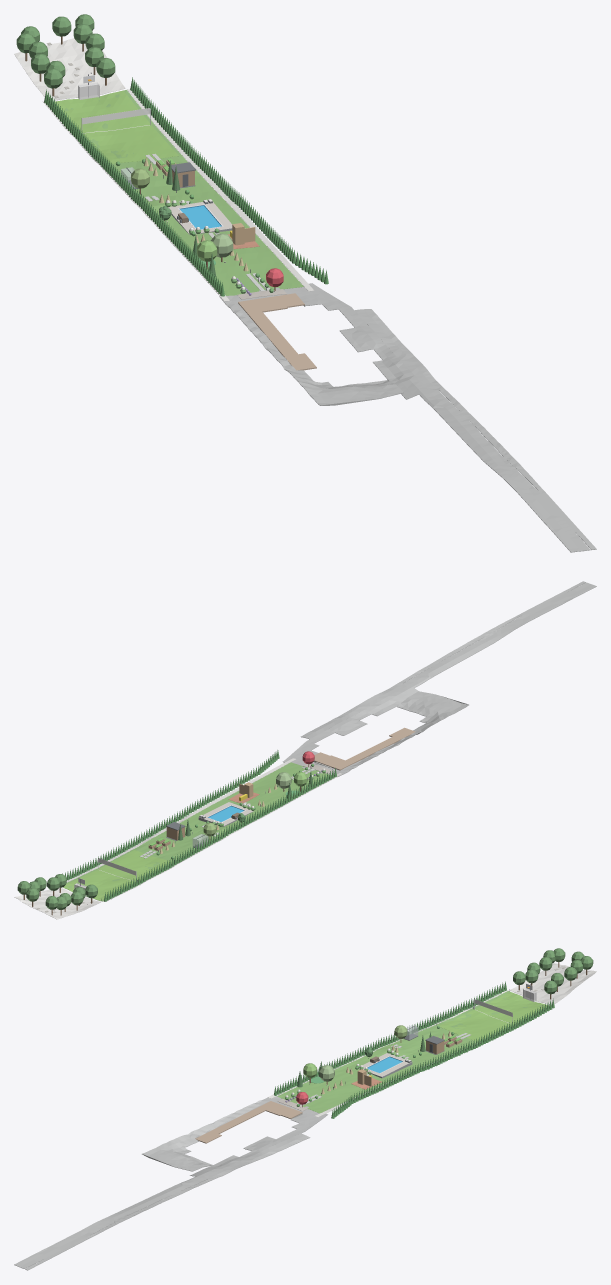
3 views of the same model, one above another, from view 1: azimuth 30°, elevation 25°; view 2: azimuth 150°, elevation 25°; view 3: azimuth 330°, elevation 25° (orthographic). The views are drawn at different scales.
Visible parts, largest first — view 1: material_000, material_004, material_046, material_008, material_006, material_045, material_002, material_033; view 2: material_000, material_046, material_004, material_006, material_008, material_045, material_002; view 3: material_000, material_004, material_046, material_008, material_006, material_045, material_002.
Part boxes in pixels (bbox=[...]): material_000: bbox=[219, 283, 596, 552]; material_004: bbox=[61, 90, 303, 295]; material_046: bbox=[44, 77, 328, 296]; material_008: bbox=[55, 90, 178, 163]; material_006: bbox=[14, 38, 313, 301]; material_045: bbox=[16, 14, 115, 88]; material_002: bbox=[238, 293, 316, 370]; material_033: bbox=[78, 82, 150, 124]; material_000: bbox=[283, 581, 596, 776]; material_046: bbox=[62, 750, 336, 901]; material_004: bbox=[63, 762, 331, 901]; material_006: bbox=[14, 758, 342, 919]; material_008: bbox=[63, 850, 171, 900]; material_045: bbox=[17, 874, 97, 909]; material_002: bbox=[314, 727, 415, 770]; material_000: bbox=[14, 1096, 327, 1270]; material_004: bbox=[277, 990, 549, 1113]; material_046: bbox=[274, 981, 554, 1118]; material_008: bbox=[438, 992, 547, 1041]; material_006: bbox=[268, 963, 596, 1117]; material_045: bbox=[513, 948, 593, 994]; material_002: bbox=[195, 1101, 302, 1143].
Bounding box in the file's own units: 36.77 × 6.99 × 197.
